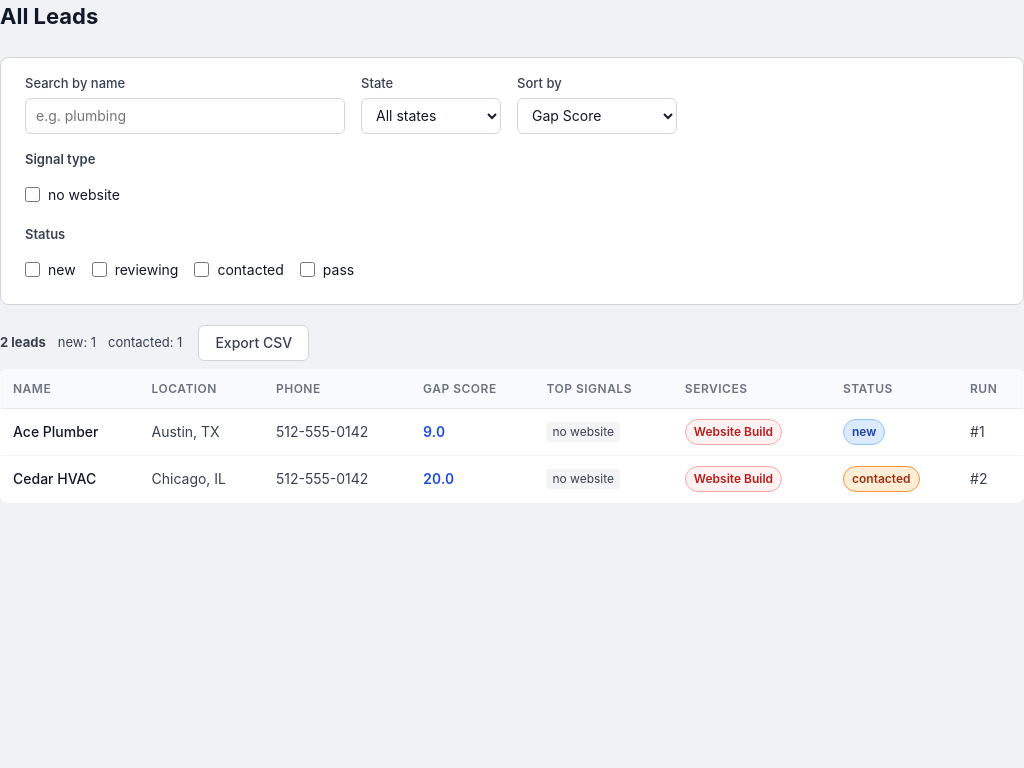
Test: AllLeads - detail panel › clicking a row opens the lead detail panel
The image size is (1024, 768).
Click the text "Ace Plumber": click(70, 432) [0,408,140,455]
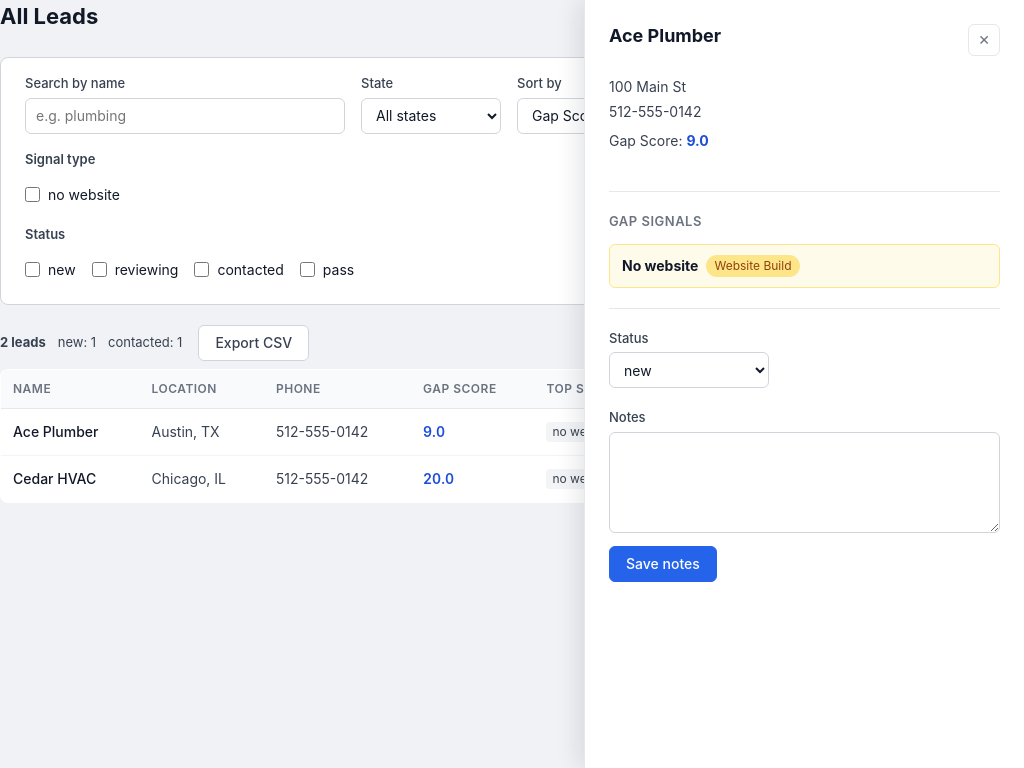
Check: the heading "Ace Plumber" is shown, box [609,24,721,47]
Check: the dropdown labelled "Status" is shown, box [609,352,769,388]
Check: the text box labelled "Notes" is shown, box [609,432,1000,532]
